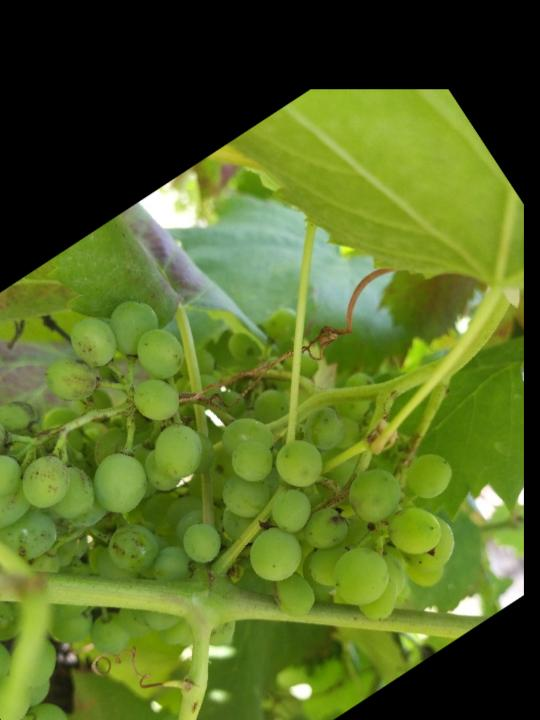grape: (0, 193, 510, 720)
